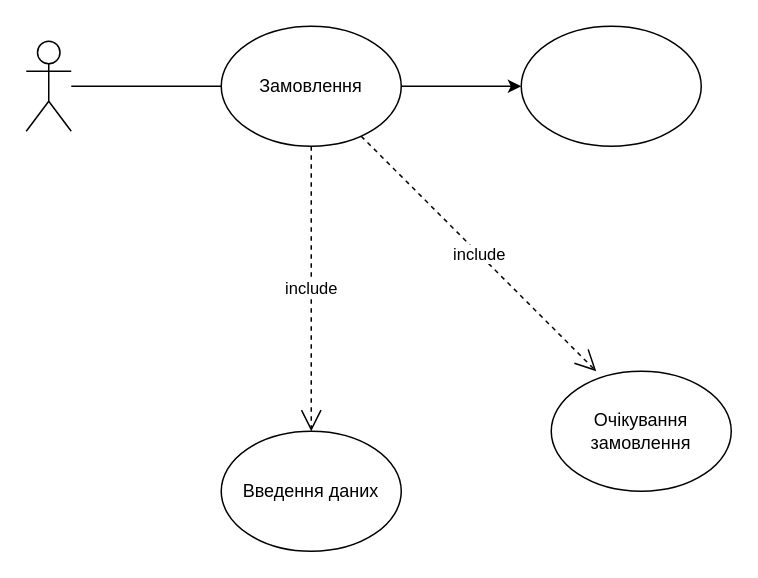
The diagram is 758 pixels wide and 578 high, and some of its shapes have lost their labels. The centre of each missing label's shape, as x and y in pixels:
"User" belongs at point 48,85.
"Отримання даних" belongs at point 610,85.
